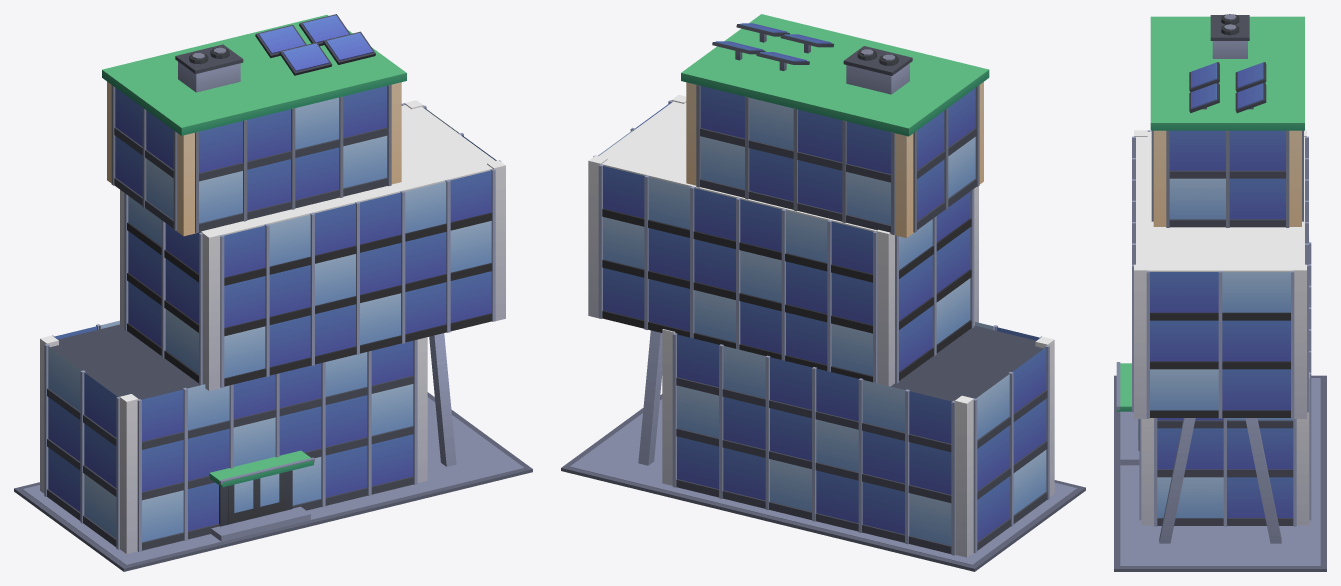
The model's file is off_cantilever_2x1.glb.
The picture shows the model from 3 angles, left to right: view 1: azimuth 30°, elevation 25°; view 2: azimuth 150°, elevation 25°; view 3: azimuth 270°, elevation 25°; orthographic projection. The views are drawn at different scales.
Parts seen in each view (by area): view 1: off_cantilever_2x1; view 2: off_cantilever_2x1; view 3: off_cantilever_2x1.
Part boxes in pixels (x1,y1,x2,y2): off_cantilever_2x1: [14, 14, 532, 571]; off_cantilever_2x1: [561, 14, 1085, 571]; off_cantilever_2x1: [1114, 14, 1326, 571].
Size of the model in its own units: 3.74 by 3.86 by 1.74.
Materials: 1 (1 with a texture image).
